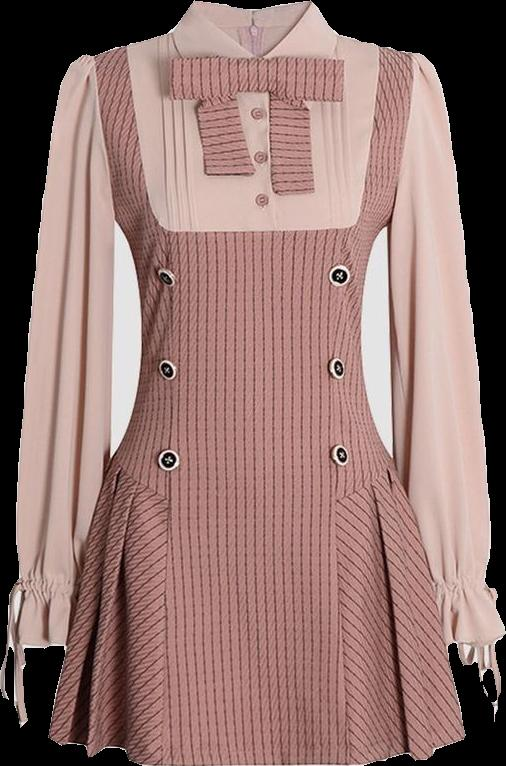Bodice: (94, 1, 415, 357)
Hemline: (46, 730, 469, 765)
Neckline: (122, 45, 387, 238), (193, 0, 315, 59)
Skirt: (49, 358, 464, 765)
Sleeve: (387, 53, 505, 647), (6, 54, 116, 650)
Sleeveline: (385, 51, 421, 228), (89, 55, 122, 223)
Waistline: (331, 467, 394, 765), (112, 458, 173, 765)
